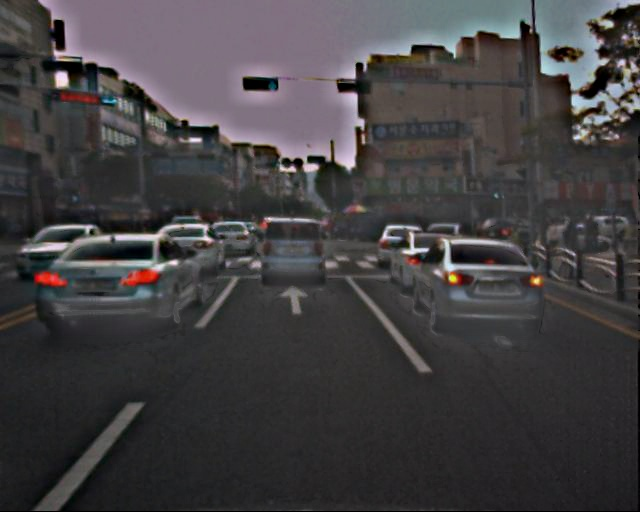person: (555, 214, 580, 275), (541, 218, 563, 271), (582, 213, 599, 255)
